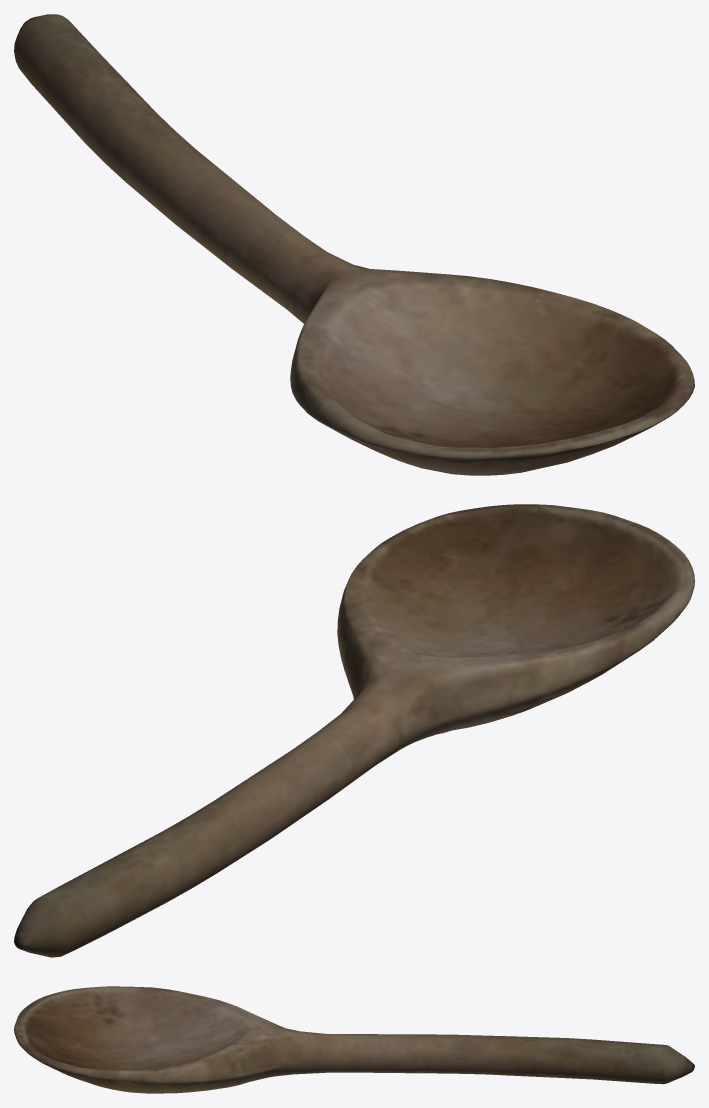
The model's file is ph-wooden-spoon.lod1.glb.
The picture shows the model from 3 angles, top to bottom: view 1: azimuth 30°, elevation 25°; view 2: azimuth 150°, elevation 25°; view 3: azimuth 270°, elevation 25°; orthographic projection. The views are drawn at different scales.
Visible parts, largest first — view 1: wooden_spoon; view 2: wooden_spoon; view 3: wooden_spoon.
Part boxes in pixels (x1,y1,x2,y2): wooden_spoon: [14, 14, 694, 475]; wooden_spoon: [14, 504, 694, 957]; wooden_spoon: [14, 986, 694, 1093].
Bounding box in the file's own units: 0.0866 × 0.0251 × 0.2776.
Materials: 1 (1 with a texture image).
